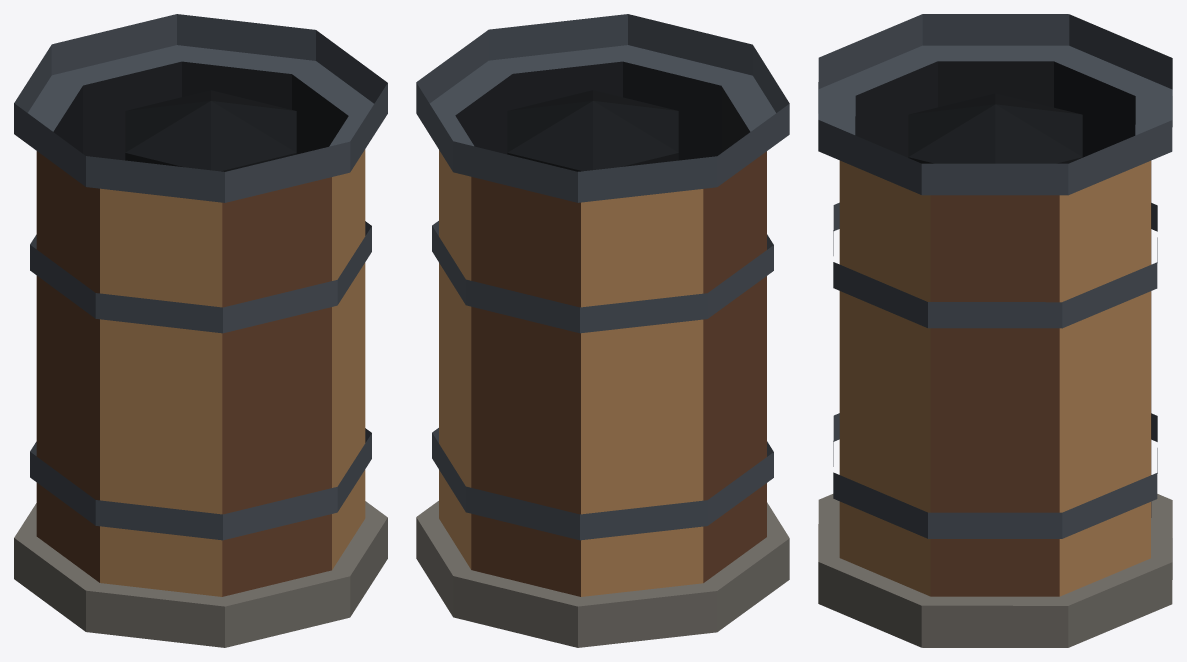
The model's file is trash_can_park.glb.
3 renders of one model, left to right at view 1: azimuth 30°, elevation 25°; view 2: azimuth 150°, elevation 25°; view 3: azimuth 270°, elevation 25°, orthographic.
Parts seen in each view (by area): view 1: Body; view 2: Body; view 3: Body.
Boxes of the visible parts, x1=… form: Body: x1=14, y1=14, x2=387, y2=647; Body: x1=416, y1=14, x2=789, y2=647; Body: x1=818, y1=14, x2=1172, y2=647.
Bounding box in the file's own units: 0.6104 × 0.92 × 0.6104.
